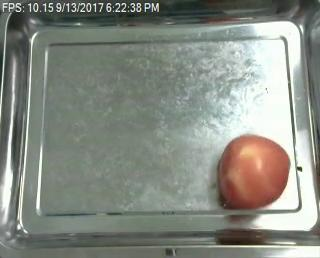apple: (217, 134, 290, 210)
